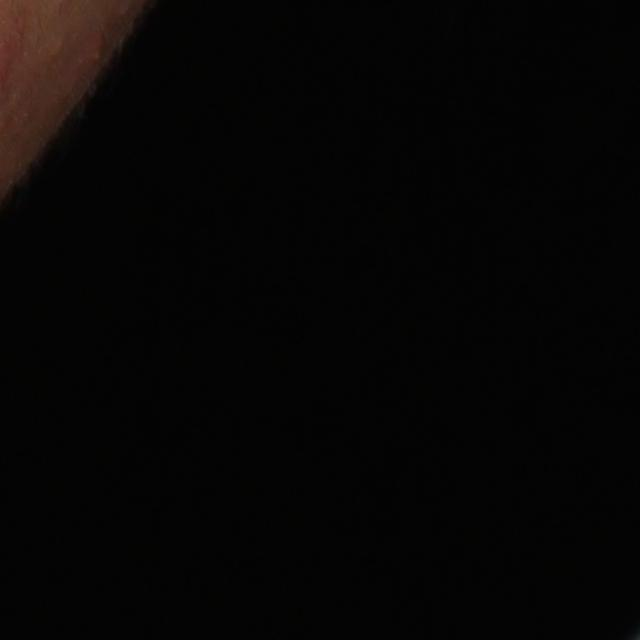papule: (83, 39, 108, 69)
